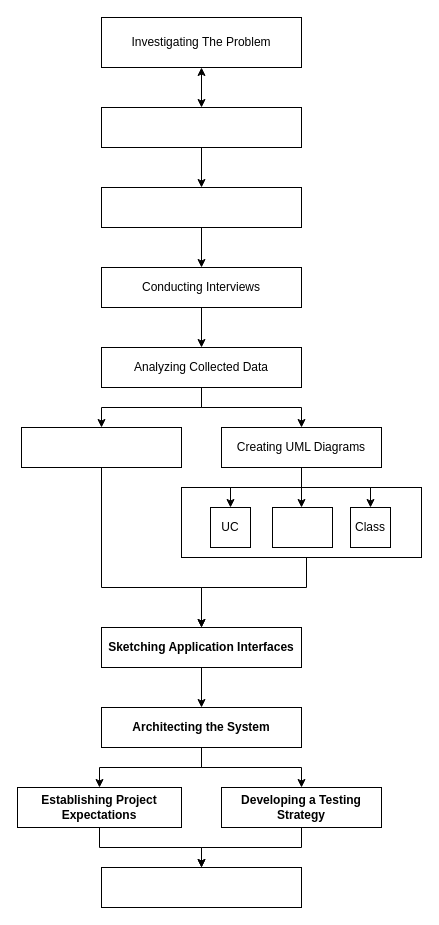
Image size: 439x925. Some labels were removed from this diagram. The shapes that lost their labels are listed below. From the top down, each one's box as (x1, y1, x2, y2) in pixels, then its label:
(100, 106, 302, 148): Reviewing Articles and Trends
(100, 186, 302, 228): Identifying Key Questions and Interview Candidates
(20, 426, 182, 468): Determining the Main Focus of Our Project
(272, 506, 332, 548): Activity
(100, 866, 302, 908): Implementing Code
